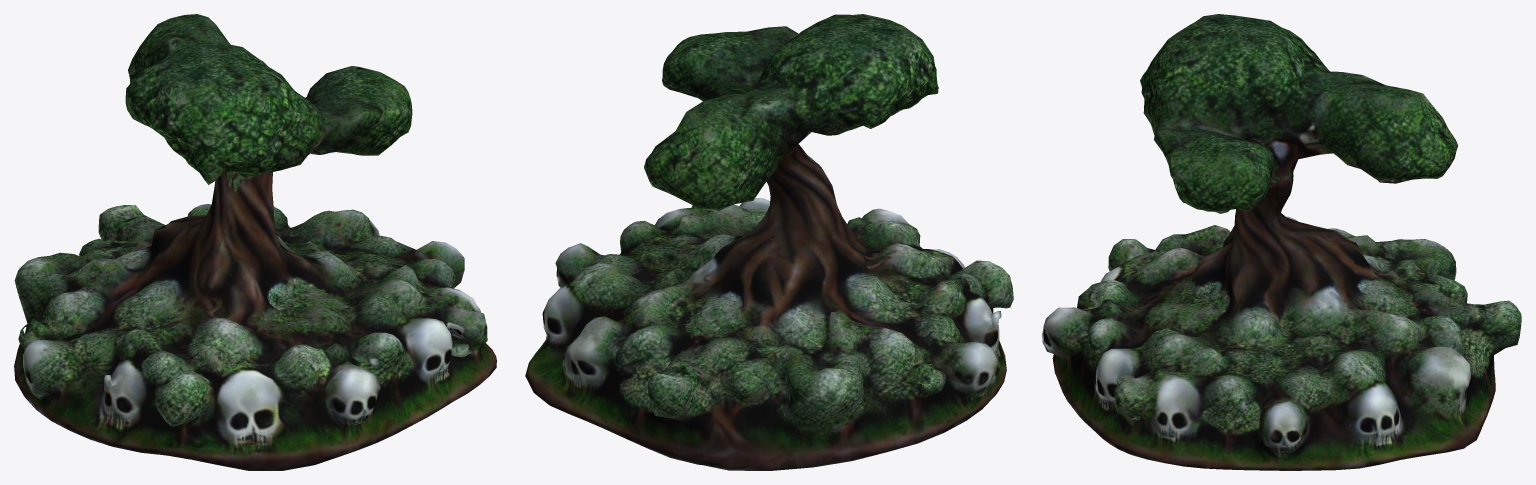
File: bonzai_tree_surroun.glb
The picture shows the model from 3 angles, left to right: view 1: azimuth 30°, elevation 25°; view 2: azimuth 150°, elevation 25°; view 3: azimuth 270°, elevation 25°; orthographic projection. The views are drawn at different scales.
Parts seen in each view (by area): view 1: mesh; view 2: mesh; view 3: mesh.
Part boxes in pixels (bbox=[...]): mesh: bbox=[14, 14, 496, 470]; mesh: bbox=[525, 14, 1013, 470]; mesh: bbox=[1042, 14, 1521, 470].
Size of the model in its own units: 0.9967 by 0.7628 by 0.9716.
1 material, 1 textured.
